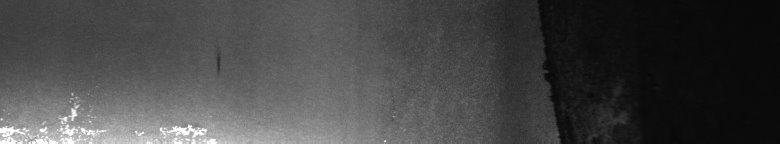kb: (4, 52, 221, 136)
